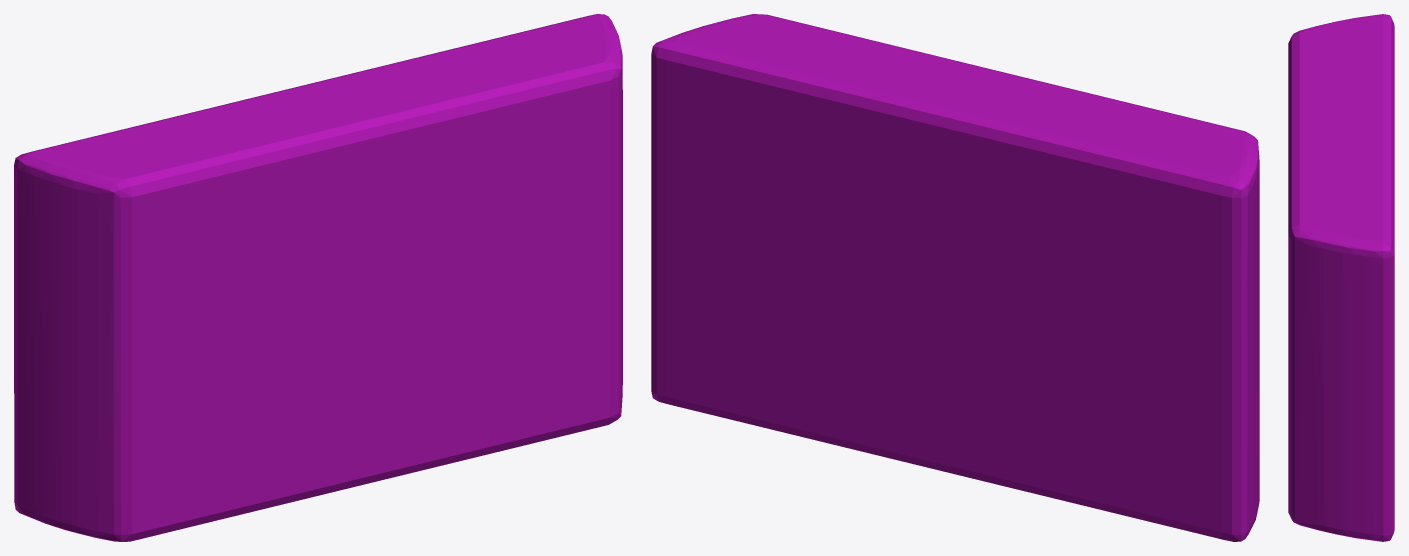
File: pelvis_part_22.obj
The picture shows the model from 3 angles, left to right: view 1: azimuth 30°, elevation 25°; view 2: azimuth 150°, elevation 25°; view 3: azimuth 270°, elevation 25°; orthographic projection. The views are drawn at different scales.
Bounding box in the file's own units: 0.1353 × 0.0791 × 0.0256.
